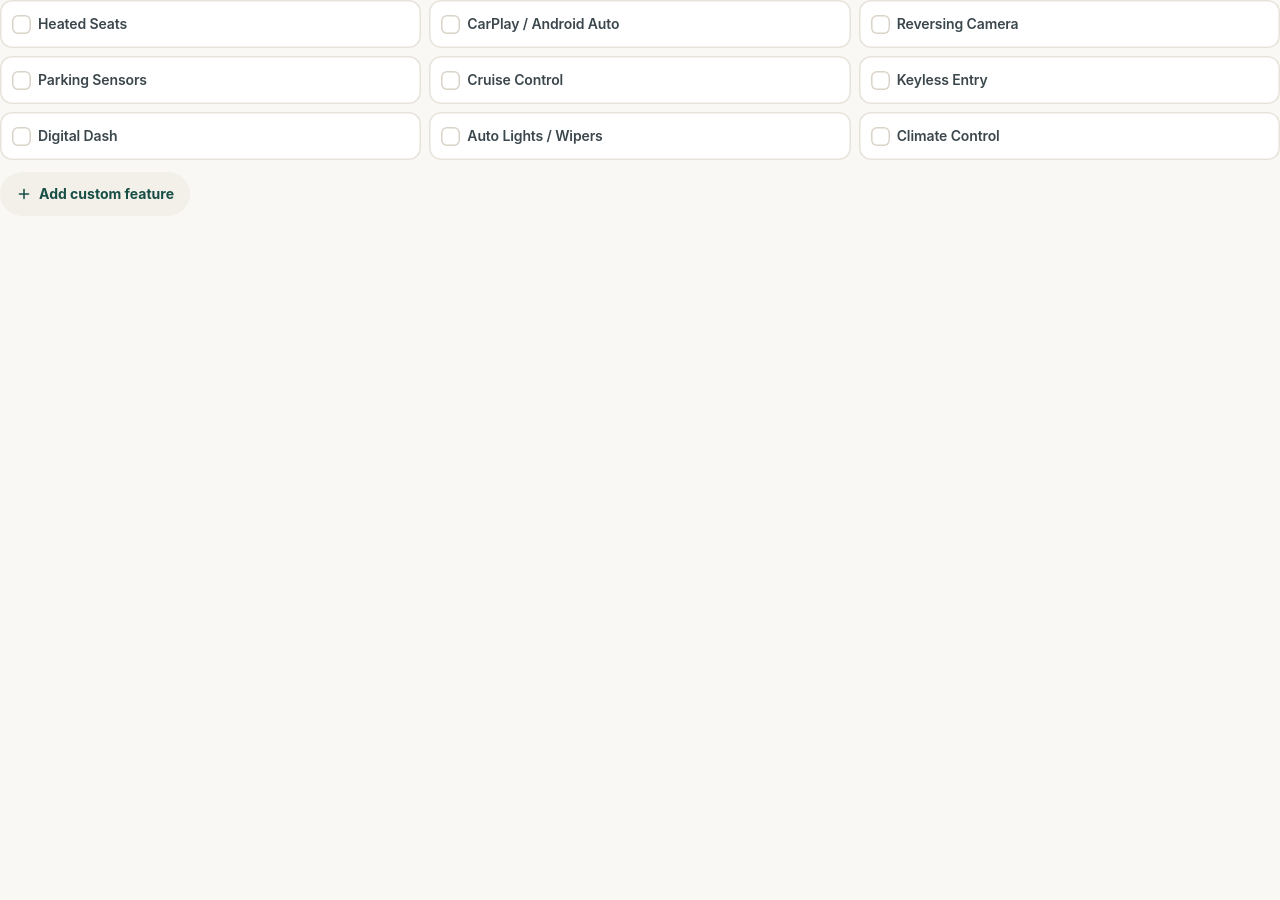
Scenario: FeaturesSection › custom features › will not add a blank name
This screenshot has width=1280, height=900.
Click the button "Add custom feature". click: (95, 194)
box: [0, 172, 190, 216]
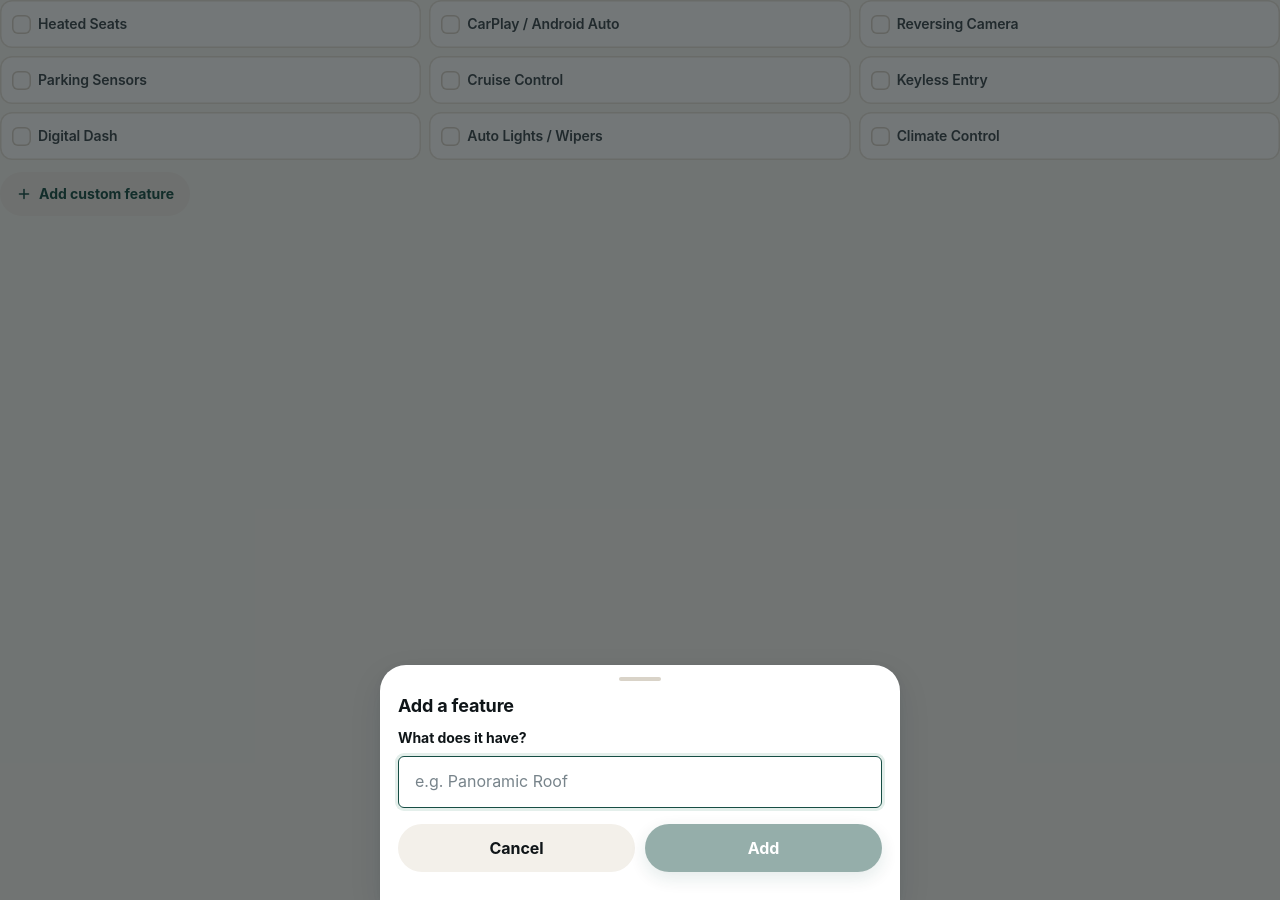
Result: the button "Add" is disabled at [645, 824, 882, 872]
